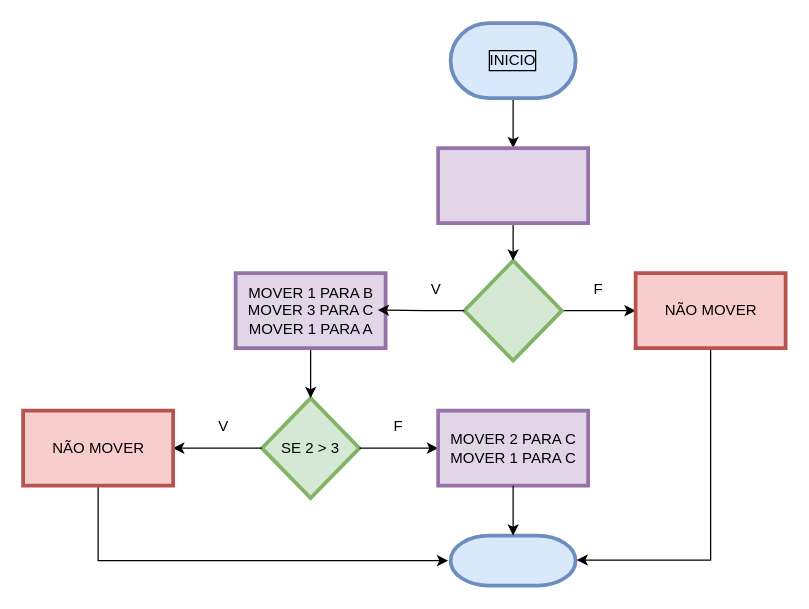
This 809x609 diagram has some shape labels left out. Each missing label, with the centre of its shape:
"FULL" goes at pixel 512 560.
"MOVER 1 PARA C MOVER 2 PARA B" goes at pixel 512 185.
"SE 1 > 3" goes at pixel 512 310.
